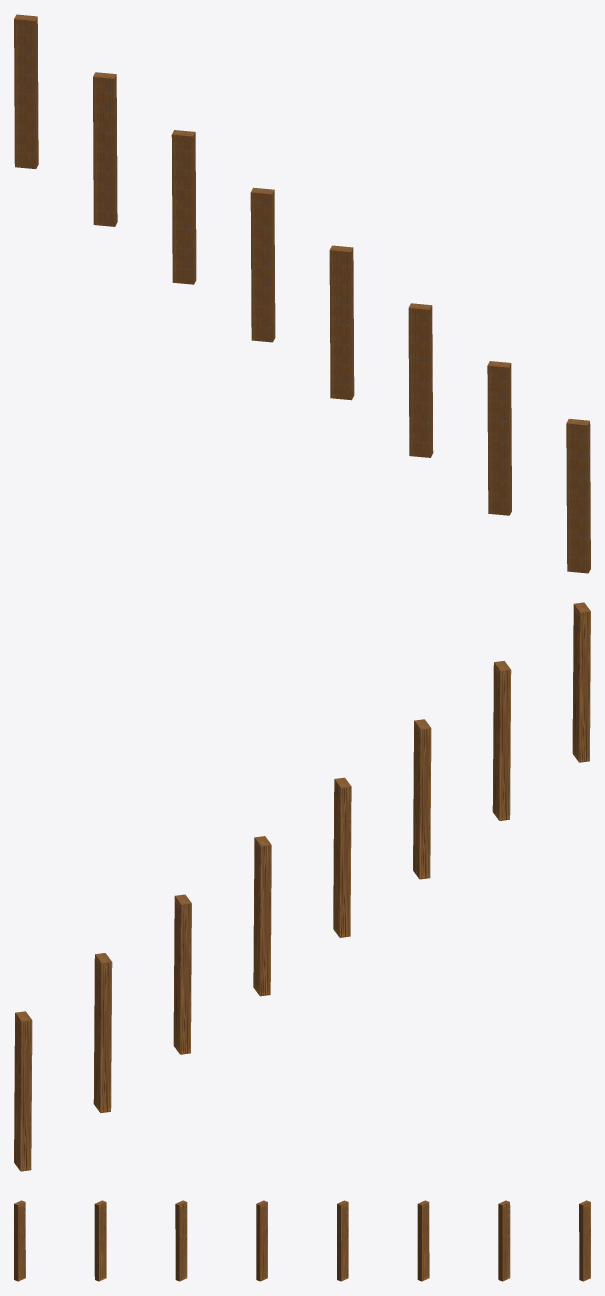
3 views of the same model, one above another, from view 1: azimuth 30°, elevation 25°; view 2: azimuth 150°, elevation 25°; view 3: azimuth 270°, elevation 25° (orthographic). The views are drawn at different scales.
Parts seen in each view (by area): view 1: Cube.1900; view 2: Cube.1900; view 3: Cube.1900.
Boxes of the visible parts, box(x1,y1,x2,y2) form: Cube.1900: box(14, 14, 590, 573); Cube.1900: box(14, 602, 590, 1171); Cube.1900: box(14, 1200, 590, 1281).
Size of the model in its own units: 21.52 by 143 by 981.
Materials: 1 (1 with a texture image).
